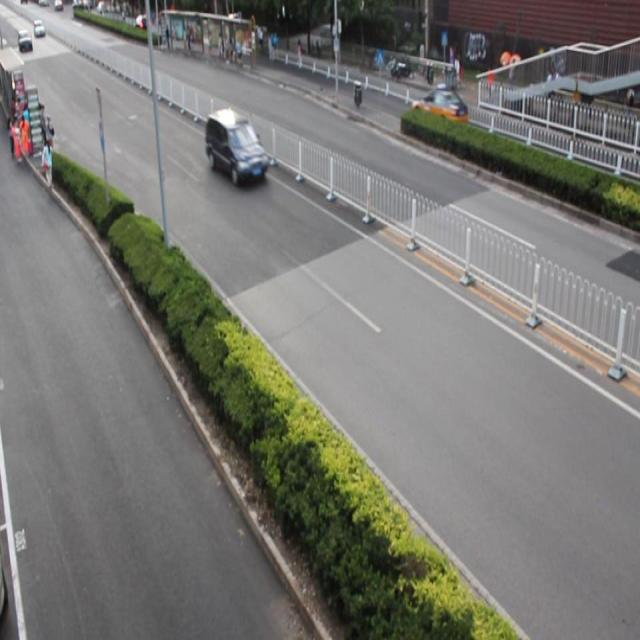car: (205, 110, 266, 185), (409, 85, 467, 131)
